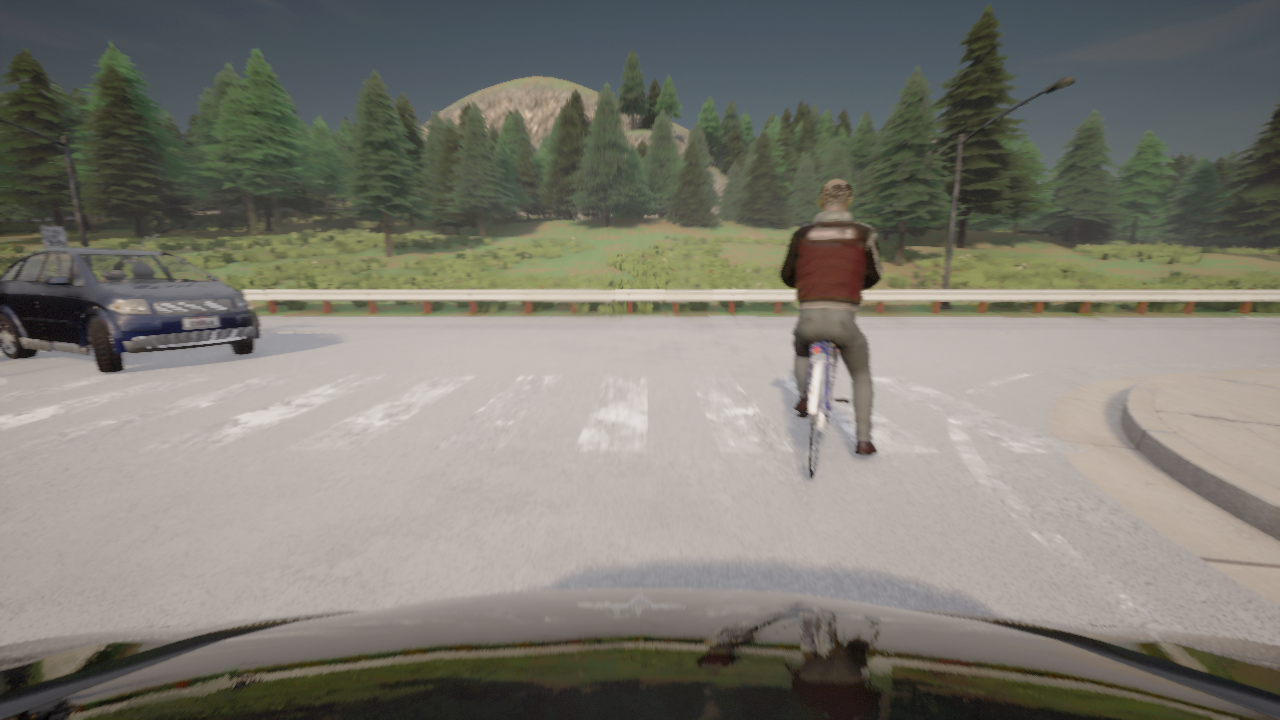cyclist: (0, 588, 1279, 719), (0, 247, 260, 372), (795, 342, 850, 478)
